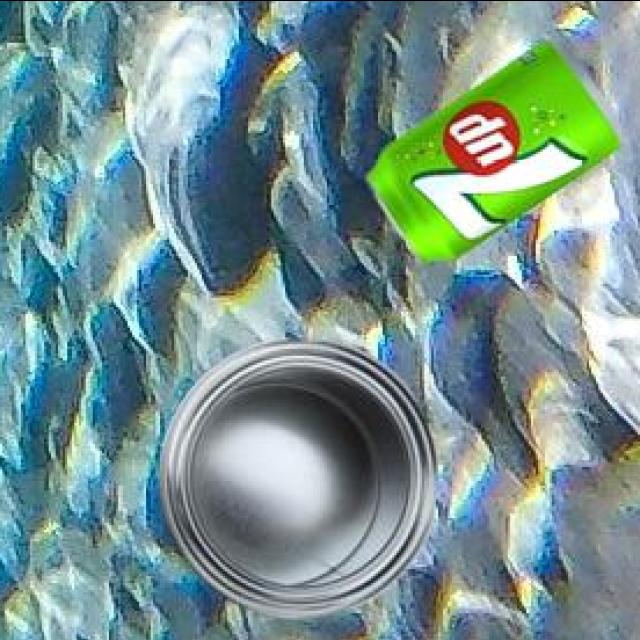logam: (157, 340, 432, 620), (365, 45, 620, 268)
